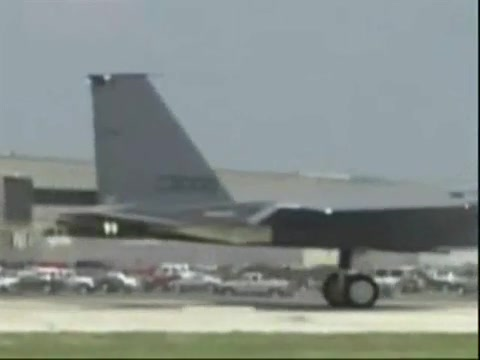aeroplane: (6, 73, 480, 309)
